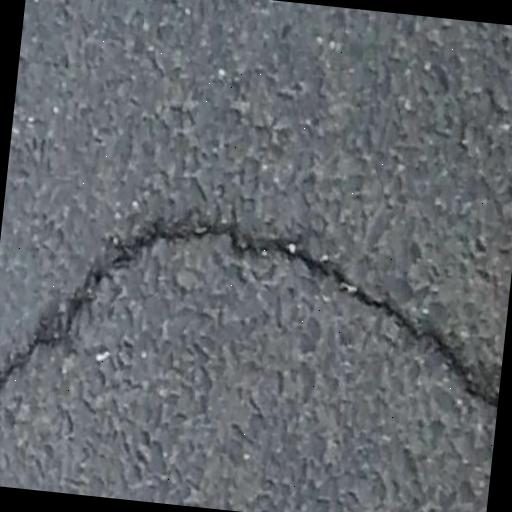spalling: (0, 204, 500, 415)
